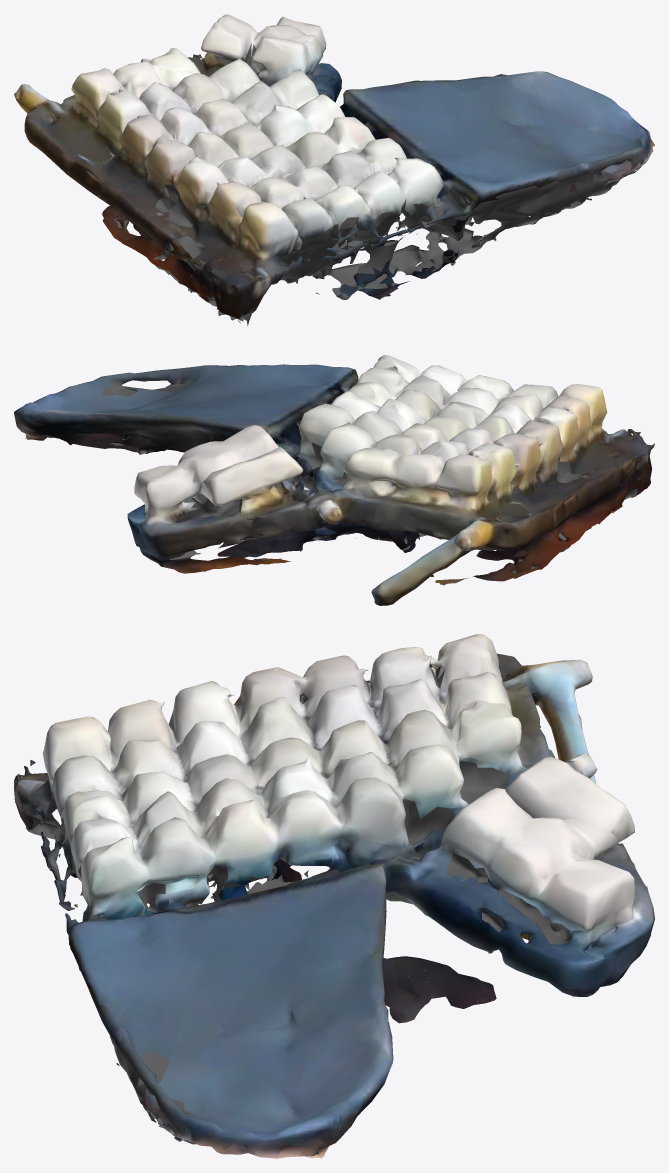
File: mesh_lowpoly.glb
3 renders of one model, top to bottom at view 1: azimuth 30°, elevation 25°; view 2: azimuth 150°, elevation 25°; view 3: azimuth 270°, elevation 25°, orthographic. The views are drawn at different scales.
Visible parts, largest first — view 1: mesh_lowpoly; view 2: mesh_lowpoly; view 3: mesh_lowpoly.
Part boxes in pixels (box(x1,y1,x2,y2)): mesh_lowpoly: box(14, 14, 654, 326); mesh_lowpoly: box(14, 355, 654, 605); mesh_lowpoly: box(14, 634, 654, 1158).
Bounding box in the file's own units: 1.82 × 0.5579 × 1.28.
5 materials, 5 textured.
